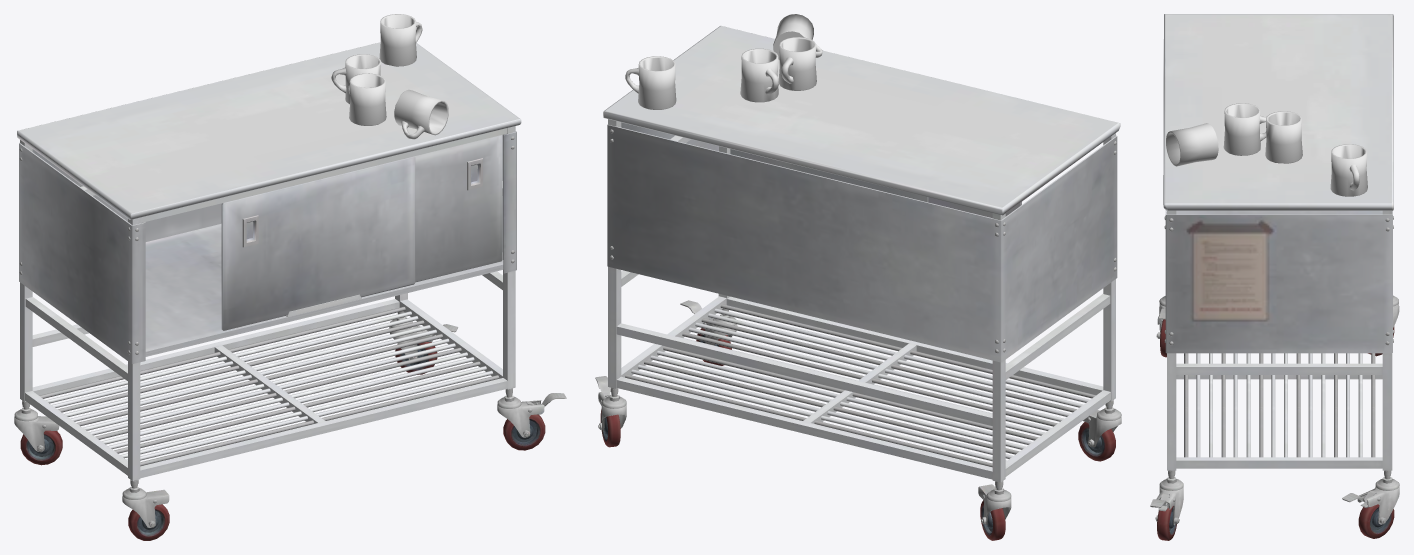
File: coffeeCart.glb
The picture shows the model from 3 angles, left to right: view 1: azimuth 30°, elevation 25°; view 2: azimuth 150°, elevation 25°; view 3: azimuth 270°, elevation 25°; orthographic projection. The views are drawn at different scales.
Visible parts, largest first — view 1: CoffeeCart_01_cart, CoffeeCart_01_mugs; view 2: CoffeeCart_01_cart, CoffeeCart_01_mugs; view 3: CoffeeCart_01_cart, CoffeeCart_01_mugs.
Part boxes in pixels (bbox=[...]): CoffeeCart_01_cart: bbox=[14, 42, 566, 540]; CoffeeCart_01_mugs: bbox=[331, 14, 448, 139]; CoffeeCart_01_cart: bbox=[595, 26, 1121, 540]; CoffeeCart_01_mugs: bbox=[625, 14, 822, 109]; CoffeeCart_01_cart: bbox=[1150, 14, 1399, 540]; CoffeeCart_01_mugs: bbox=[1166, 103, 1367, 196].
Bounding box in the file's own units: 1.44 × 1.17 × 0.716.
Materials: 2 (1 with a texture image).
